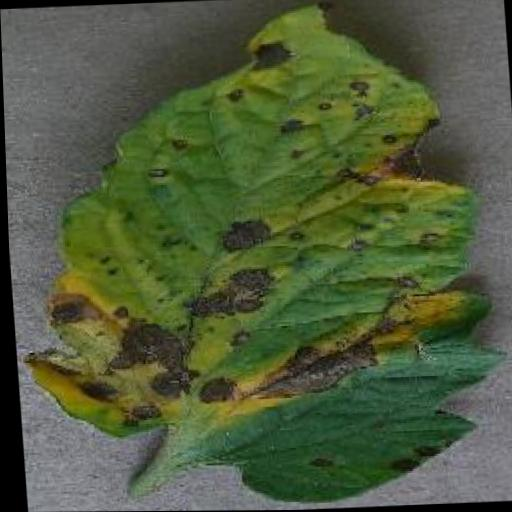Early Blight: (0, 0, 504, 512)
